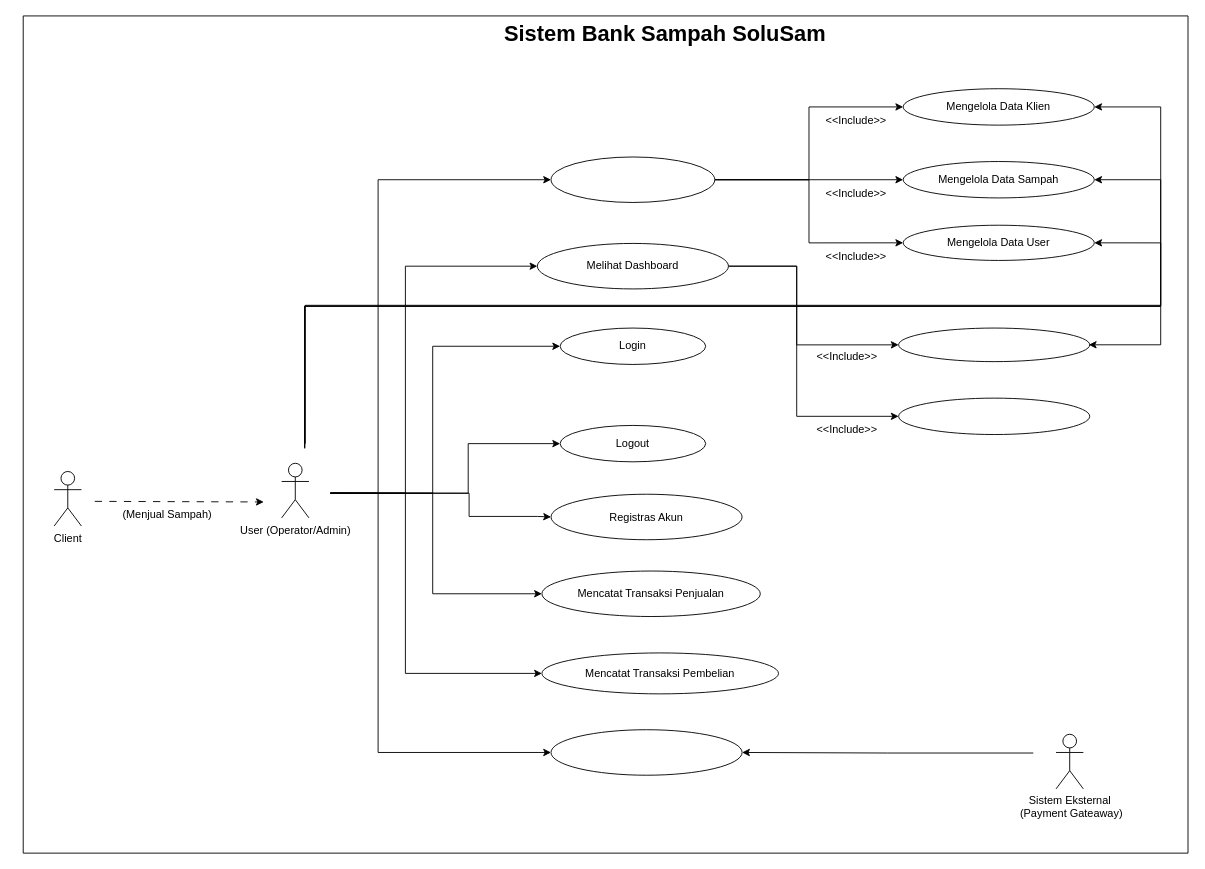
Some shapes in this 1205 by 869 pixel diagram are drawn without their labels. The centre of each missing label's shape, as x and y in pixels:
Konfirmasi Pembayaran: point 646,752
Melihat Laporan Pembelian: point 994,416
Melihat Laporan Penjualan: point 994,344
Mengelola Data Master: point 632,179
